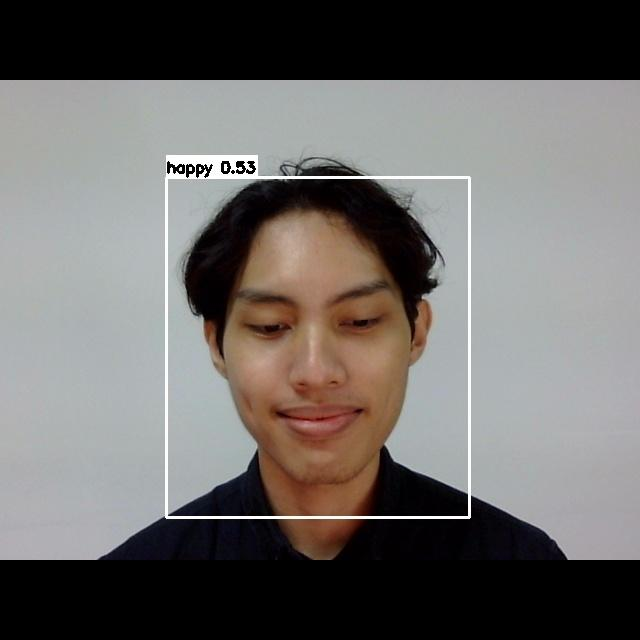Happy: (210, 264, 424, 465)
